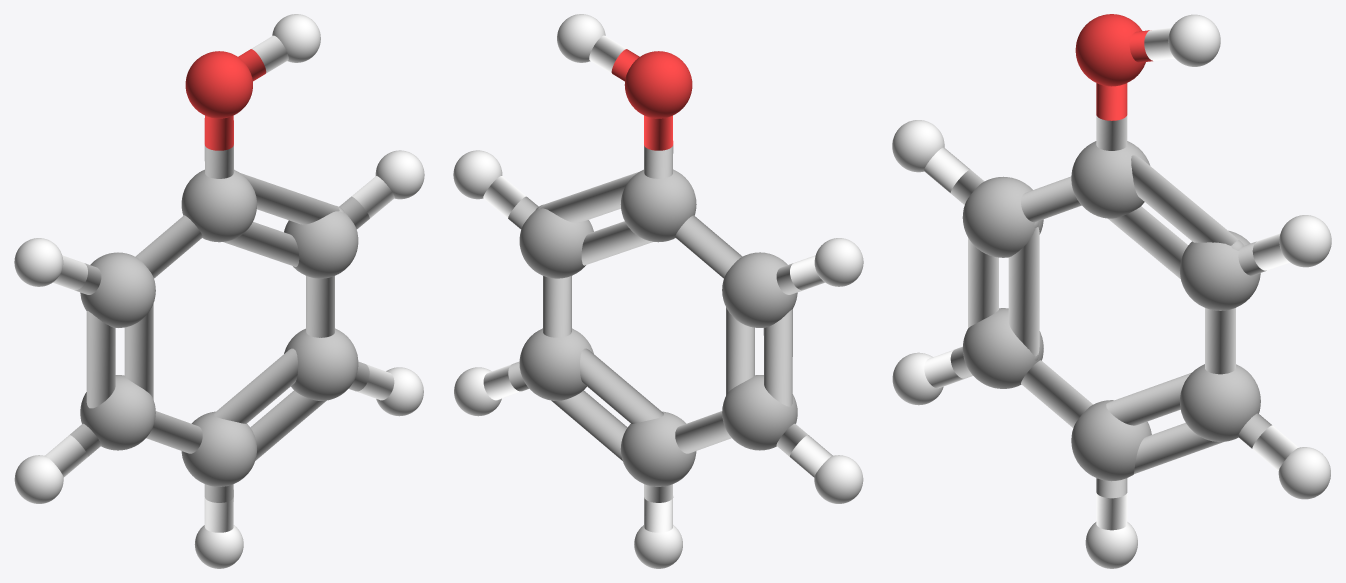
The model's file is phenol_molecule.glb.
3 views of the same model, side by side, from view 1: azimuth 30°, elevation 25°; view 2: azimuth 150°, elevation 25°; view 3: azimuth 330°, elevation 25° (orthographic). The views are drawn at different scales.
Parts seen in each view (by area): view 1: Object_3, Object_6, Object_5, Object_4; view 2: Object_3, Object_6, Object_5, Object_4; view 3: Object_3, Object_6, Object_5, Object_4.
Boxes of the visible parts, x1,y1,x2,y2 form: Object_3: [70, 145, 369, 502]; Object_6: [14, 14, 424, 568]; Object_5: [185, 49, 266, 150]; Object_4: [250, 390, 326, 460]; Object_3: [508, 145, 807, 502]; Object_6: [453, 14, 863, 568]; Object_5: [611, 49, 692, 150]; Object_4: [551, 390, 627, 460]; Object_3: [950, 115, 1271, 498]; Object_6: [892, 14, 1331, 568]; Object_5: [1075, 14, 1152, 120]; Object_4: [1134, 422, 1224, 473].
Bounding box in the file's own units: 4.81 × 6.06 × 0.7825.
